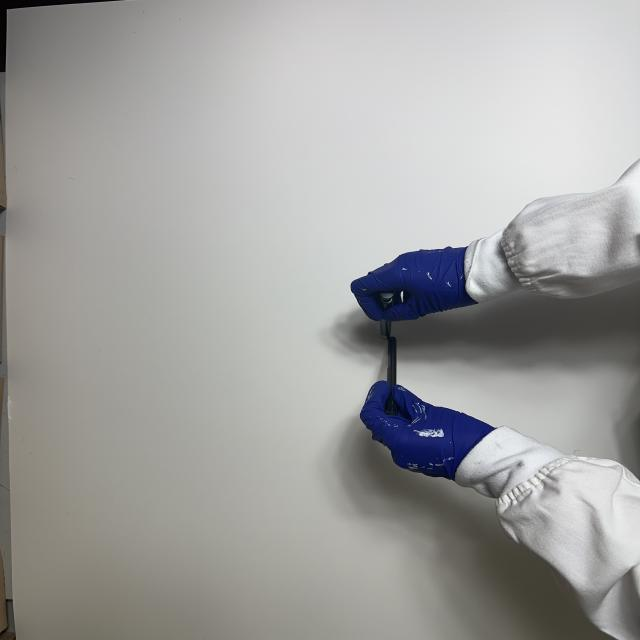gloves_contaminated: (361, 381, 494, 480), (352, 247, 476, 321)
